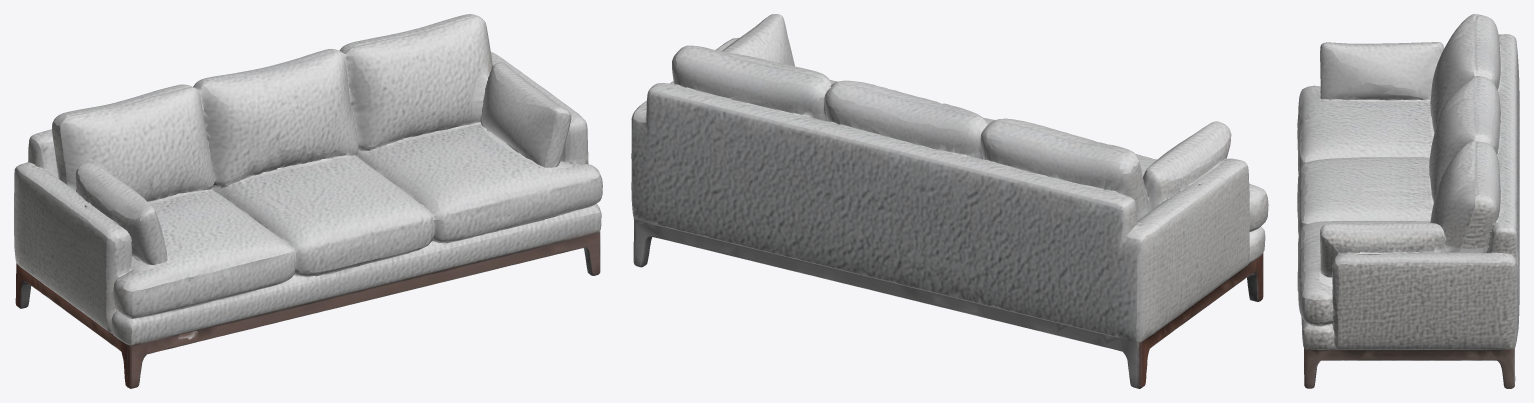
File: L_SOFA_3.japandi.glb
3 views of the same model, side by side, from view 1: azimuth 30°, elevation 25°; view 2: azimuth 150°, elevation 25°; view 3: azimuth 270°, elevation 25° (orthographic). The views are drawn at different scales.
Visible parts, largest first — view 1: geometry_0; view 2: geometry_0; view 3: geometry_0.
Part boxes in pixels (x1,y1,x2,y2): geometry_0: (14, 14, 602, 388); geometry_0: (631, 14, 1268, 388); geometry_0: (1297, 14, 1519, 388).
Size of the model in its own units: 2.2 by 0.8559 by 0.9566.
1 material, 1 textured.
